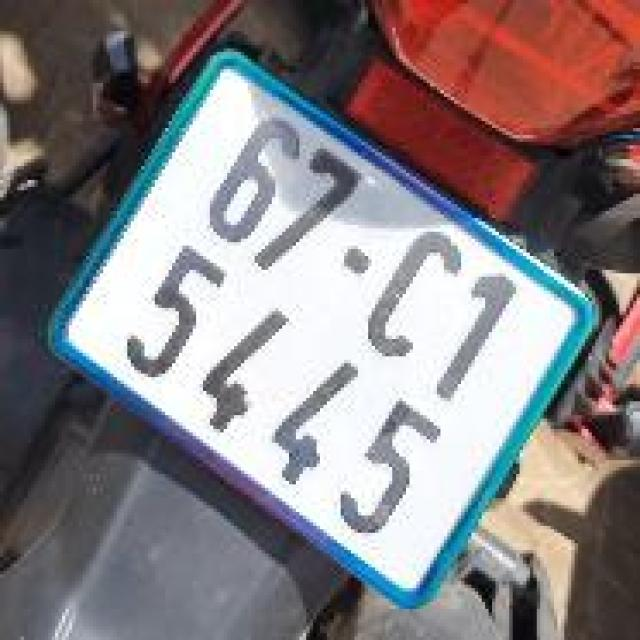1: (411, 257, 542, 422)
4: (247, 339, 391, 499), (185, 290, 324, 452)
5: (317, 381, 464, 554), (105, 228, 245, 395)
6: (183, 104, 323, 262)
7: (239, 131, 381, 280)
C: (344, 217, 486, 375)
